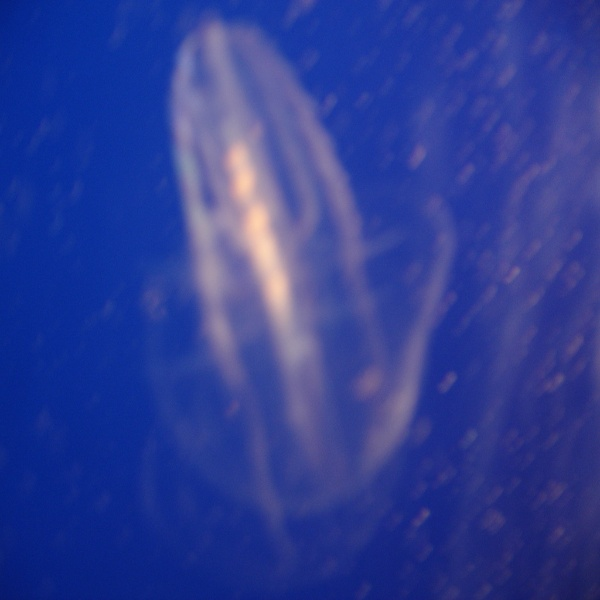Jellyfish: (142, 25, 485, 522)
